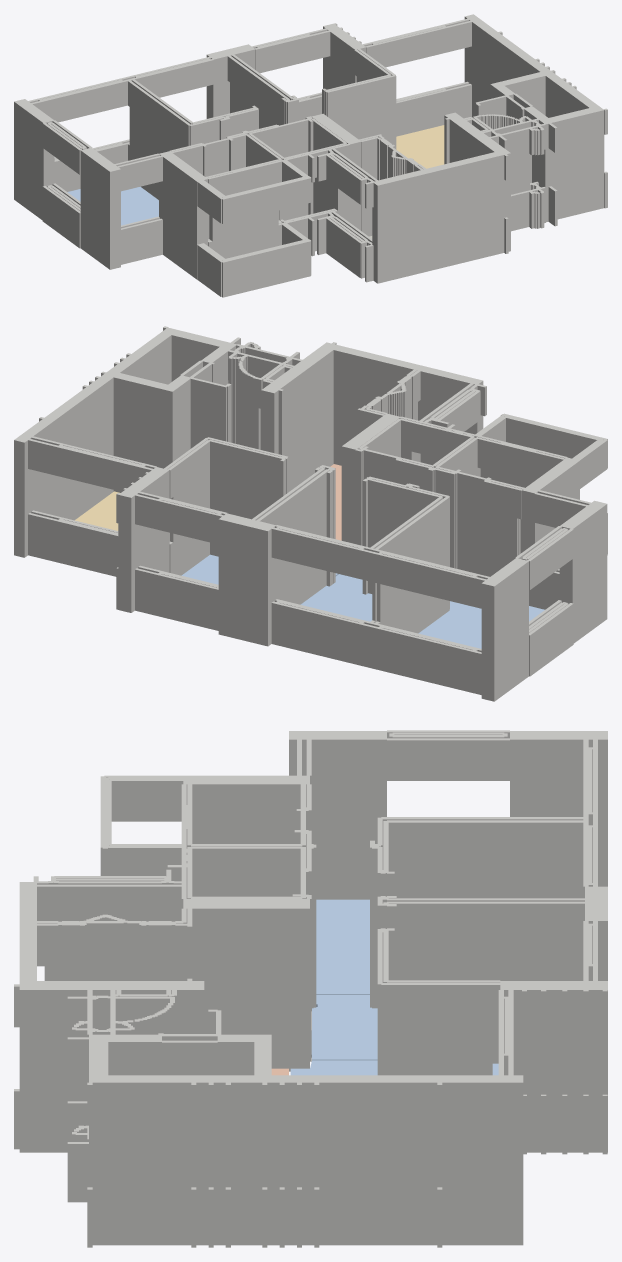
3 renders of one model, top to bottom at view 1: azimuth 30°, elevation 25°; view 2: azimuth 150°, elevation 25°; view 3: azimuth 270°, elevation 25°, orthographic. The views are drawn at different scales.
Parts seen in each view (by area): view 1: walls, room:living:0, room:bedroom:3; view 2: walls, room:bedroom:2, room:bedroom:3, room:living:0, room:bedroom:1, room:kitchen:4; view 3: walls, room:bedroom:3, room:bedroom:2, room:bedroom:1.
Part boxes in pixels (x1,y1,x2,y2): walls: (14, 14, 607, 297); room:living:0: (396, 125, 444, 168); room:bedroom:3: (67, 186, 158, 225); walls: (14, 326, 607, 701); room:bedroom:2: (300, 574, 372, 621); room:bedroom:3: (418, 601, 544, 648); room:living:0: (75, 491, 120, 530); room:bedroom:1: (181, 554, 338, 584); room:kitchen:4: (330, 464, 341, 540); walls: (14, 730, 607, 1247); room:bedroom:3: (316, 899, 369, 994); room:bedroom:2: (311, 994, 377, 1060); room:bedroom:1: (290, 1060, 498, 1075).
Bounding box in the file's own units: 13.09 × 2.8 × 9.26.
